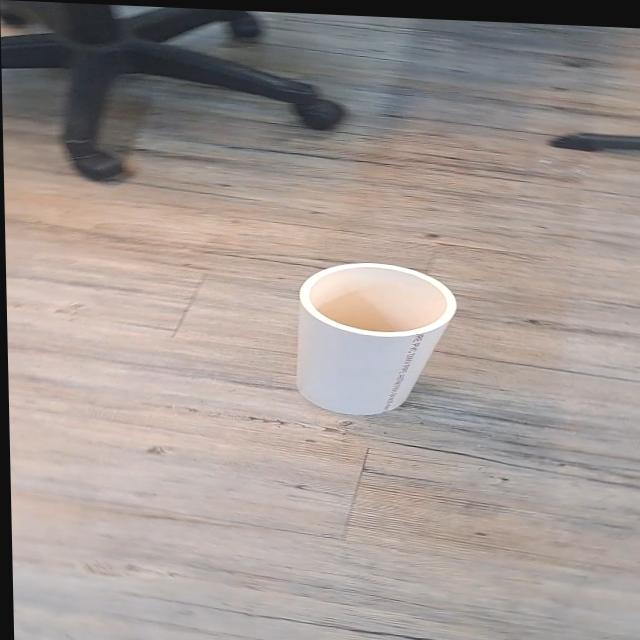CORAL: (284, 256, 468, 422)
